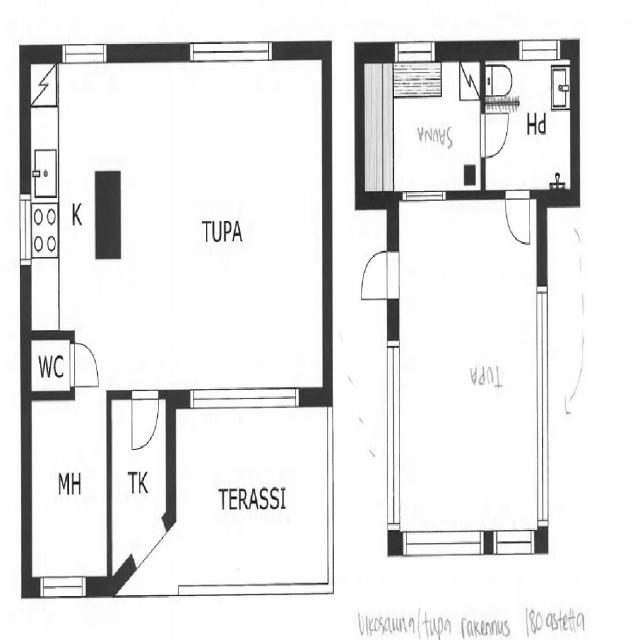door: (476, 100, 514, 164), (356, 245, 394, 307), (129, 384, 161, 453), (68, 337, 104, 392), (503, 185, 533, 249)
window: (184, 372, 306, 421), (530, 284, 553, 534), (383, 330, 407, 537), (184, 30, 276, 74), (401, 524, 490, 559), (57, 34, 114, 70), (35, 572, 93, 603), (490, 526, 540, 558), (397, 180, 450, 207), (15, 185, 32, 269), (516, 34, 563, 64), (393, 36, 439, 64)
zone: (118, 56, 328, 378), (393, 186, 545, 543), (29, 56, 110, 341), (26, 391, 110, 584), (375, 55, 483, 196), (480, 51, 575, 195), (108, 392, 173, 593), (28, 334, 74, 394)
